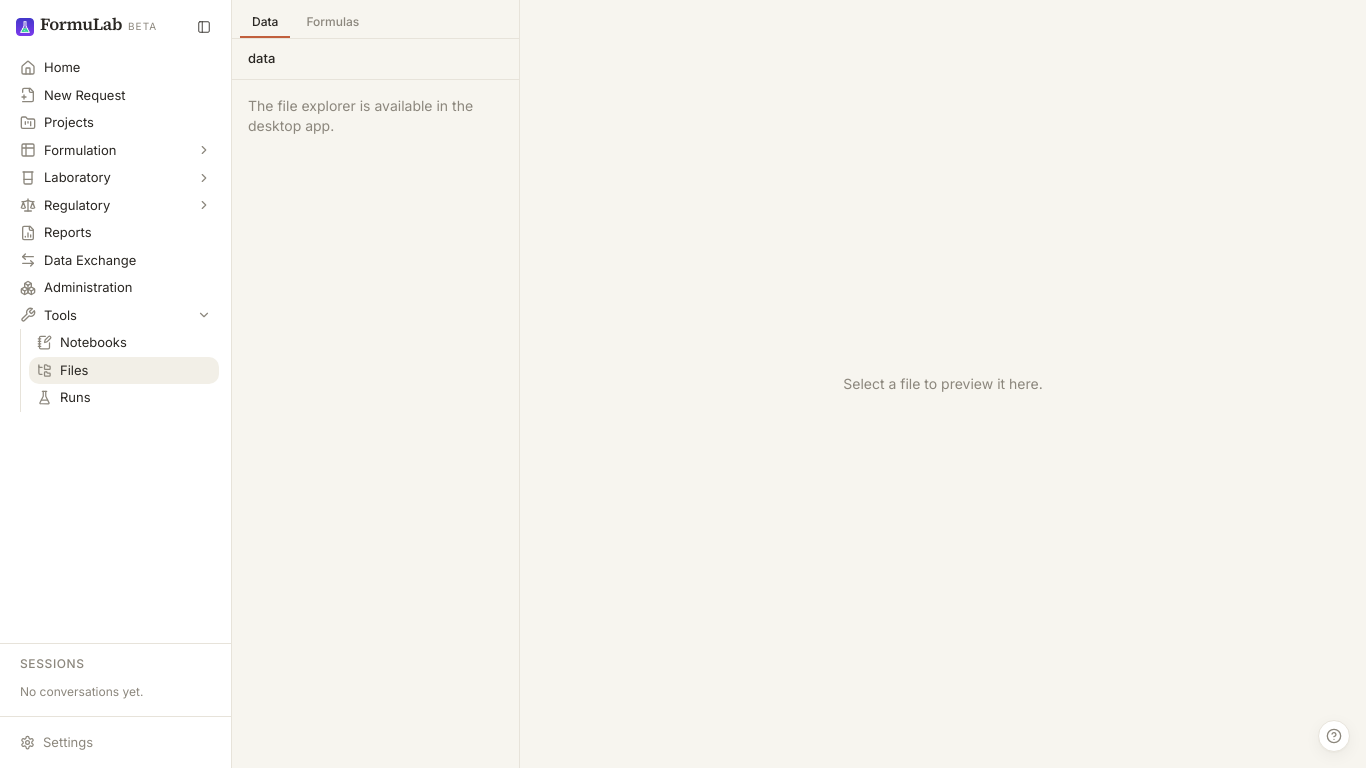
Sidebar — top-level structure › every previous route remains reachable from the sidebar
Check: the link "Home" is shown, box [20,59,80,76]
Check: the link "Projects" is shown, box [20,114,94,131]
What coordinates should you click on to do the following:
click the button "Formulation"
I would click on:
 (116, 150)
Its box is [12,136,219,164].
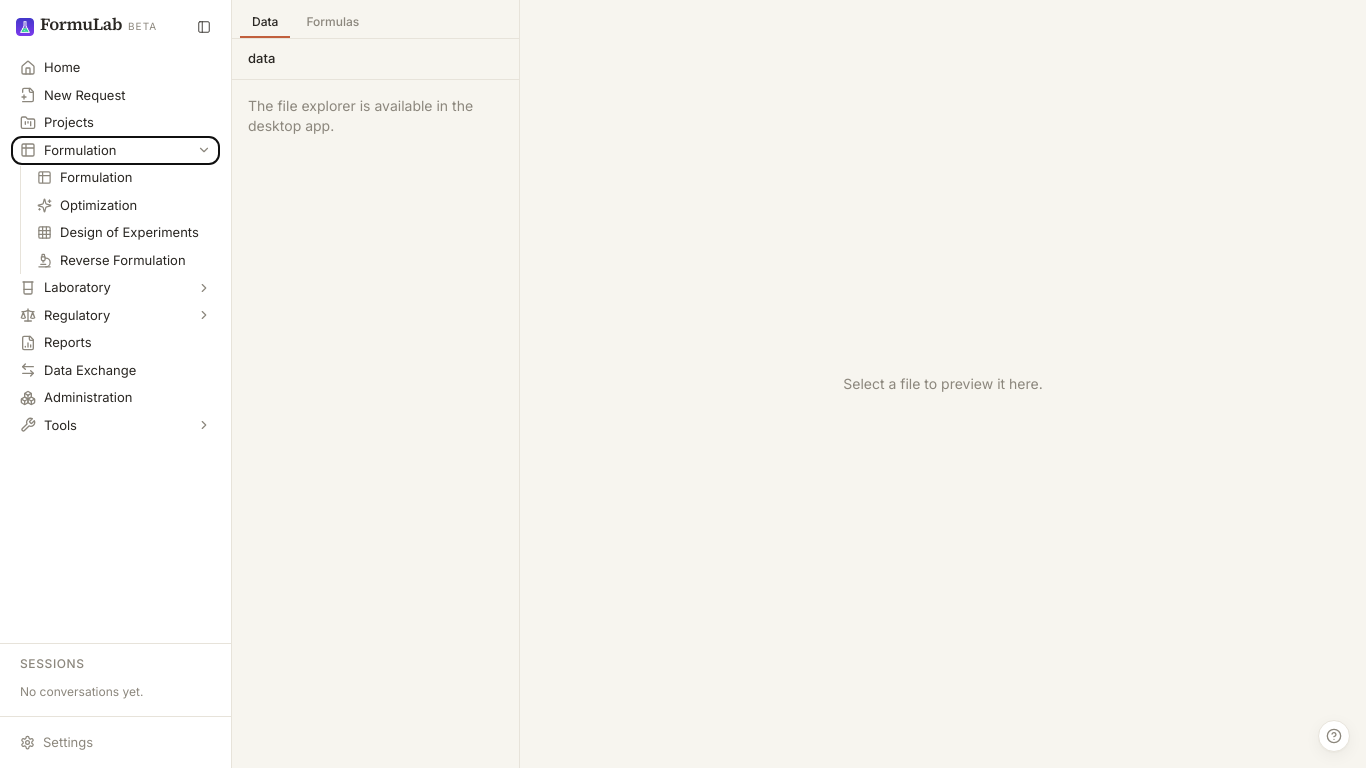
Check: the link "Formulation" is shown, box [37,169,132,185]
Check: the link "Optimization" is shown, box [37,196,137,213]
Check: the link "Design of Experiments" is shown, box [37,224,199,240]
What coordinates should you click on to do the following:
click the button "Laboratory"
I would click on:
 (116, 288)
Its box is [12,274,219,302].
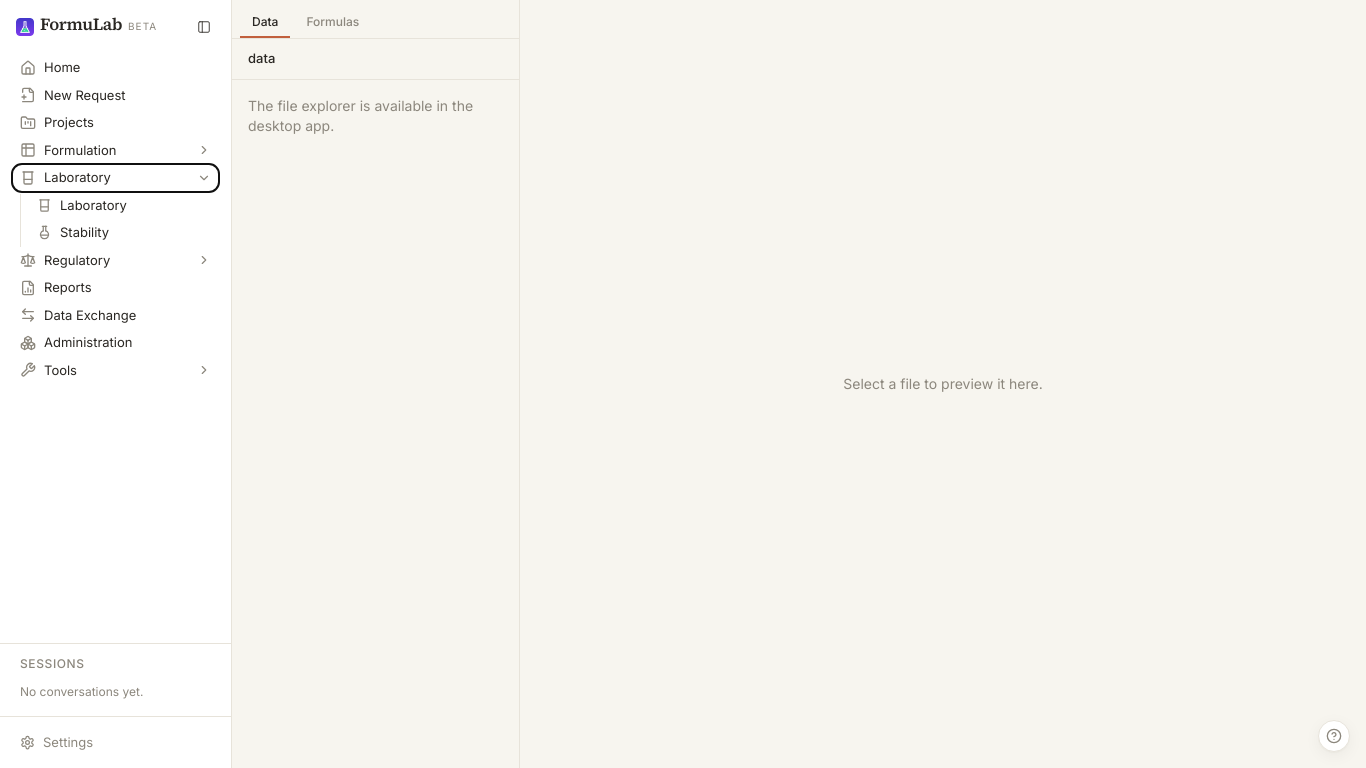
Check: the link "Laboratory" is shown, box [37,196,127,213]
Check: the link "Stability" is shown, box [37,224,109,240]
What coordinates should you click on to do the following:
click the button "Regulatory"
I would click on:
 (116, 260)
Its box is [12,246,219,274].
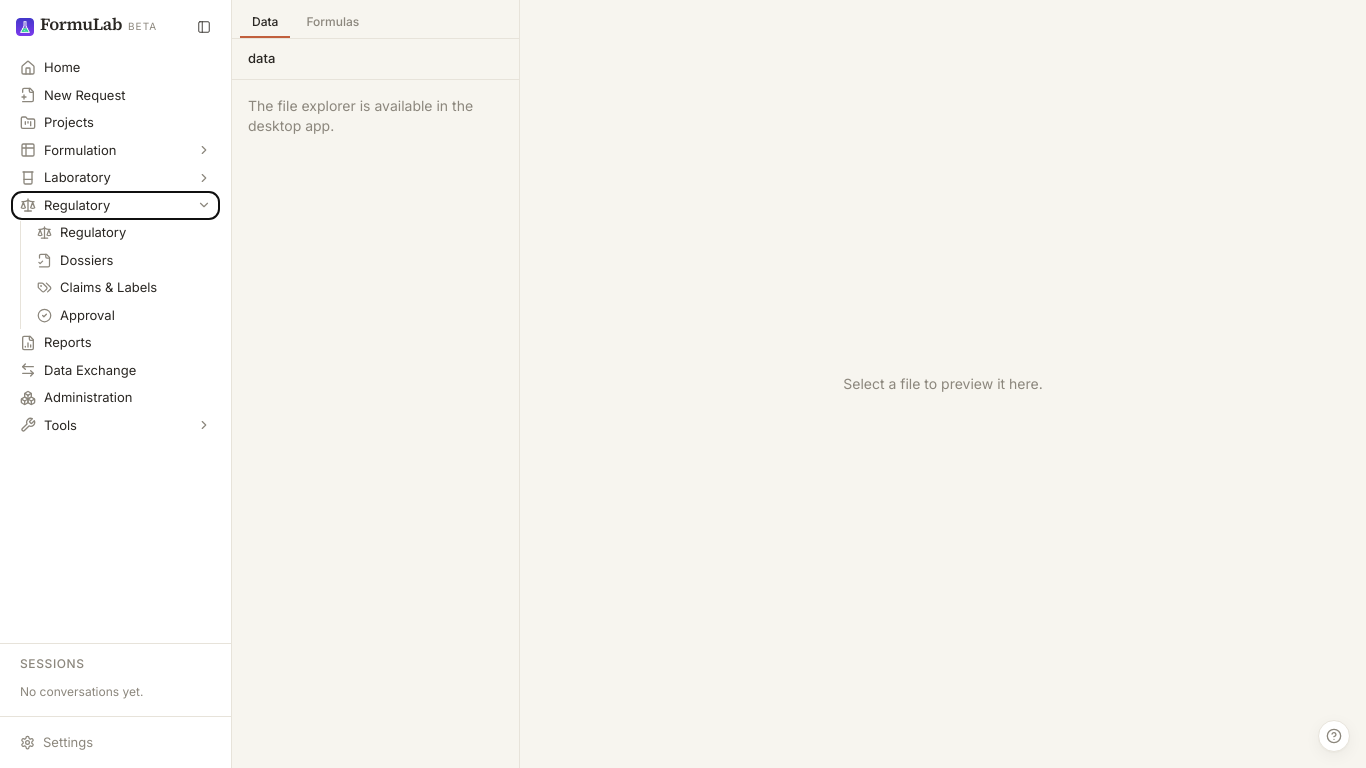
Check: the link "Regulatory" is shown, box [37,224,126,240]
Check: the link "Dossiers" is shown, box [37,252,113,268]
Check: the link "Claims & Labels" is shown, box [37,279,157,295]
What coordinates should you click on to do the following:
click the button "Tools"
I would click on:
 (116, 425)
Its box is [12,412,219,439].
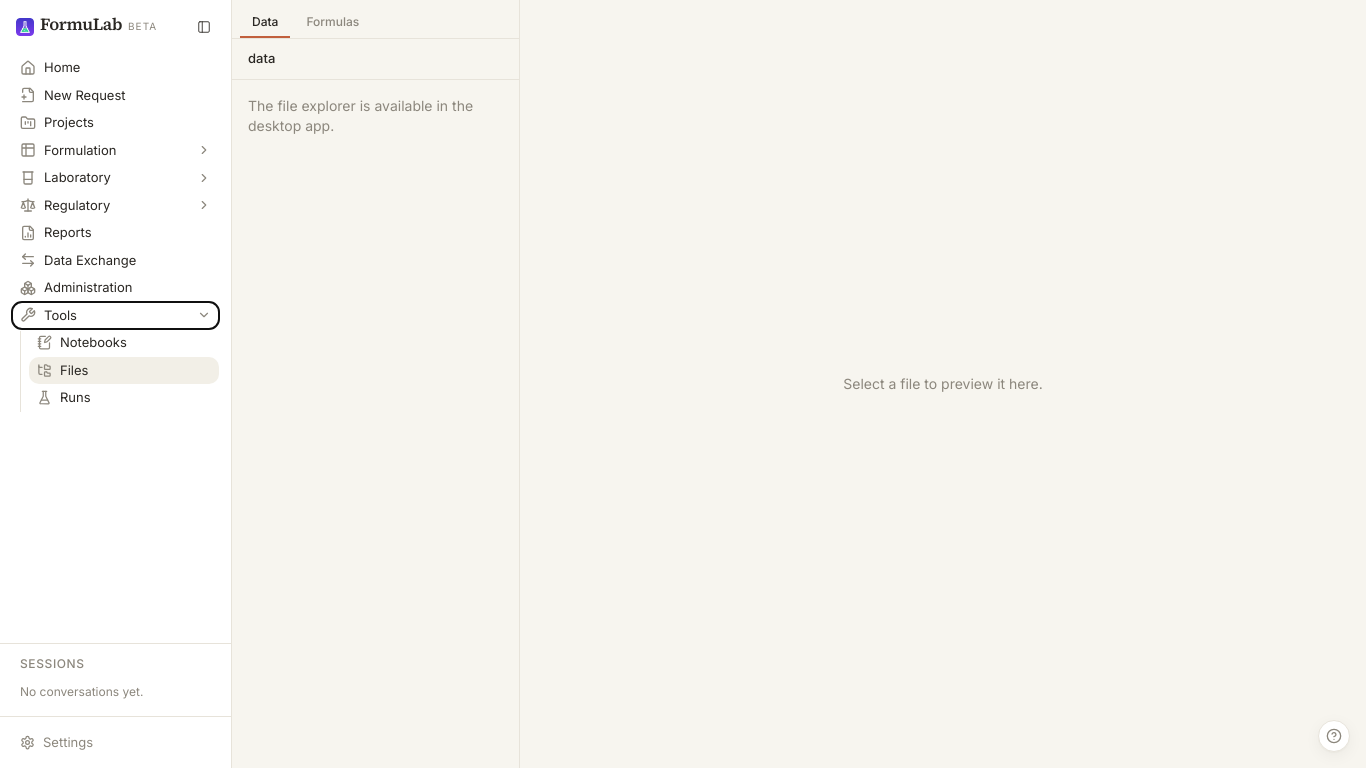
Check: the link "Notebooks" is shown, box [37,334,127,350]
Check: the link "Files" is shown, box [29,356,219,384]
Check: the link "Runs" is shown, box [37,389,91,405]
